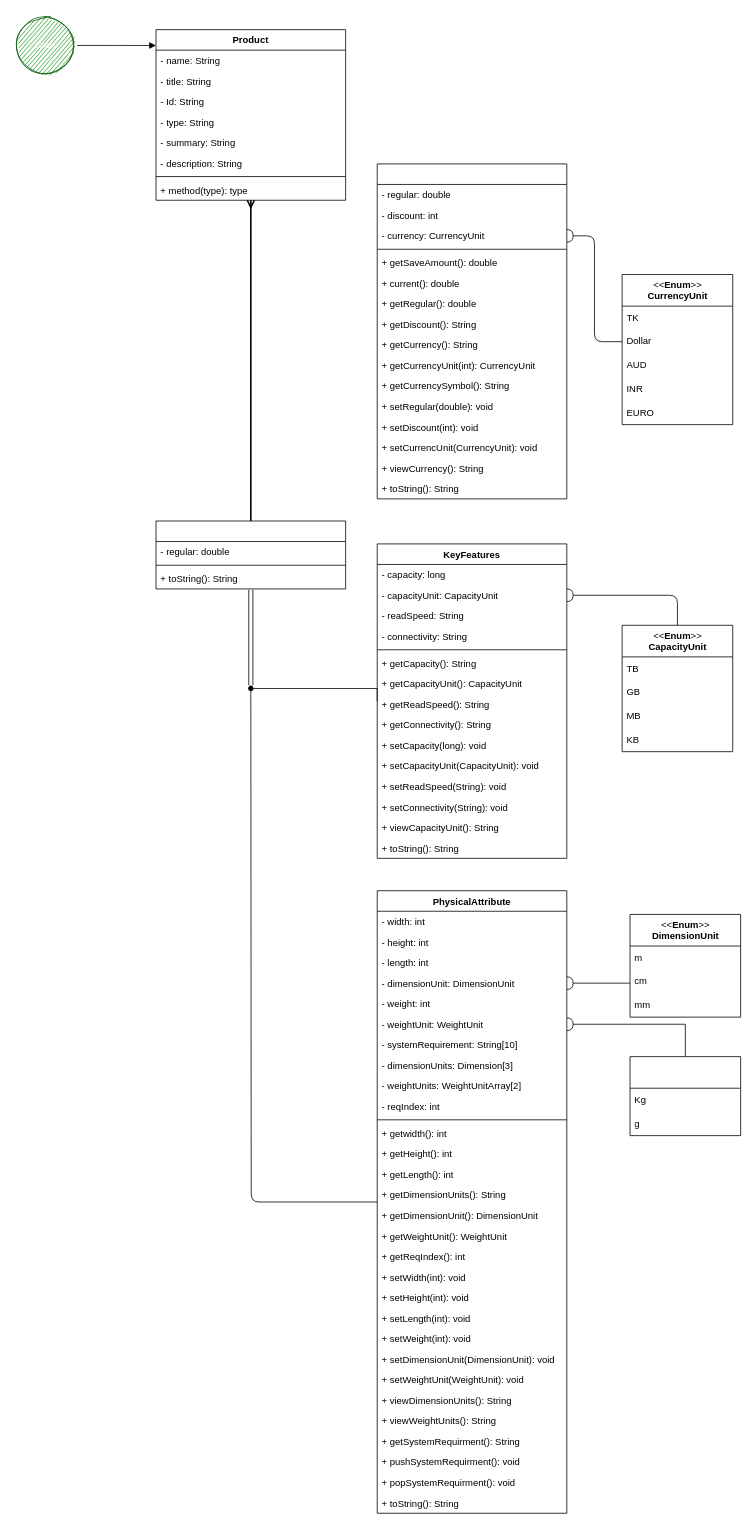
Some shapes in this 754 by 1529 pixel diagram are drawn without their labels. The box of each missing label's shape, as (x1, y1, x2, y2) in pixels:
<< Enum >> WeightUnit: (629, 1056, 741, 1136)
Price: (376, 163, 567, 499)
Specification: (155, 520, 346, 589)
